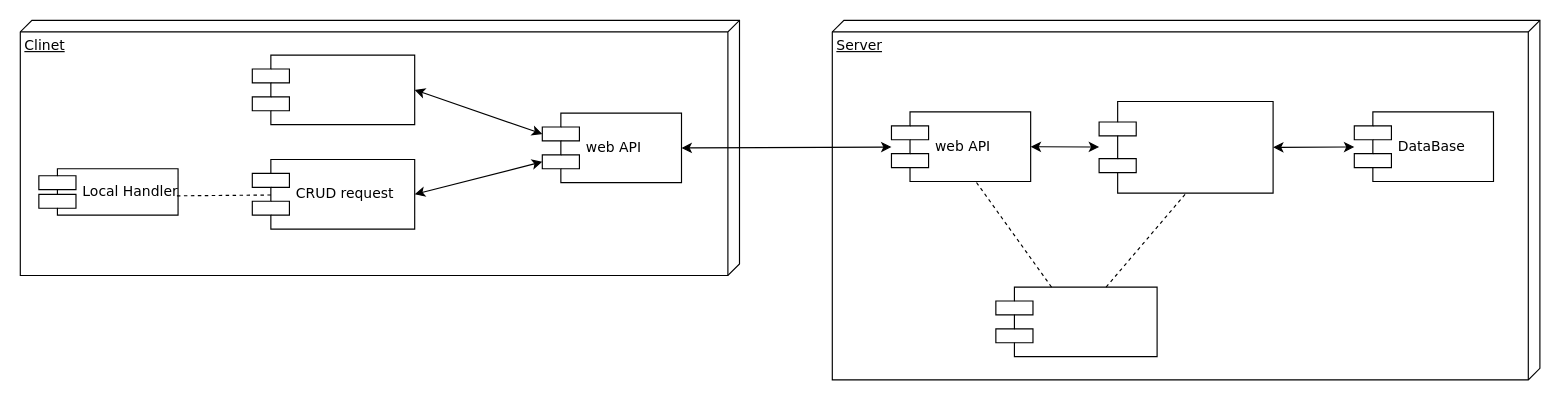
This 1560x400 diagram has some shape labels left out. Here are the shapes that lost their labels. From the top down, the centre of each, then its label:
the point at 333,89: Login
the point at 1185,146: Request handler 1 Request handler 2 ....... Request handler N
the point at 1076,321: Event Monitor
